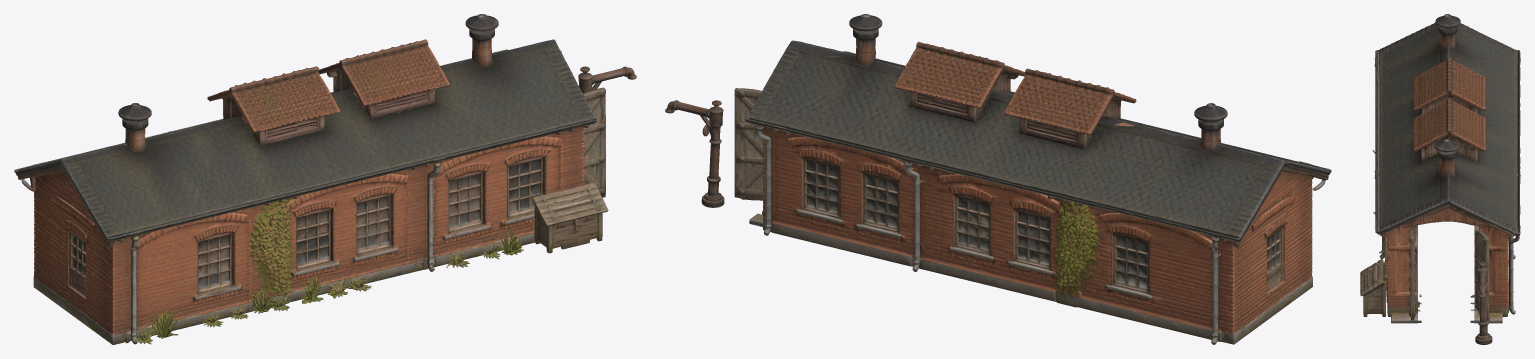
The model's file is FALLER_222141_RIMESSA_RUNTIME_V012.glb.
3 renders of one model, left to right at view 1: azimuth 30°, elevation 25°; view 2: azimuth 150°, elevation 25°; view 3: azimuth 270°, elevation 25°, orthographic. The views are drawn at different scales.
Visible parts, largest first — view 1: Mesh_0; view 2: Mesh_0; view 3: Mesh_0.
Part boxes in pixels (bbox=[...]): Mesh_0: bbox=[14, 14, 636, 344]; Mesh_0: bbox=[665, 14, 1331, 344]; Mesh_0: bbox=[1360, 14, 1520, 344].
Size of the model in its own units: 0.2885 by 0.093 by 0.088.
Materials: 1 (1 with a texture image).
